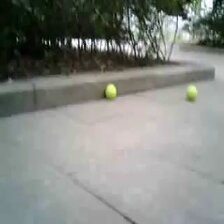tennis: (104, 83, 116, 97), (185, 85, 196, 100)
